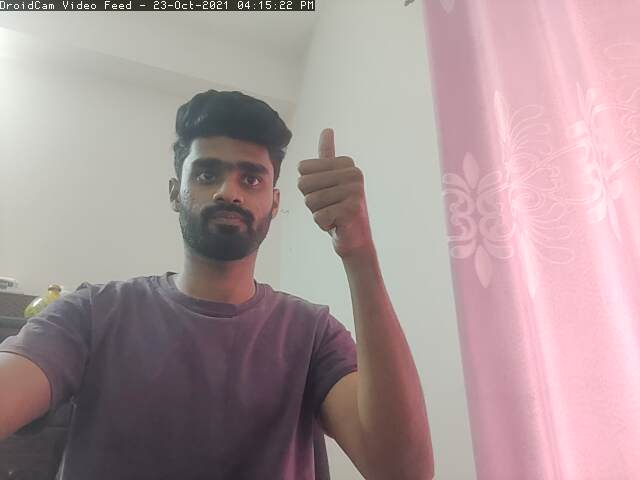ThumbsUp: (278, 125, 375, 259)
